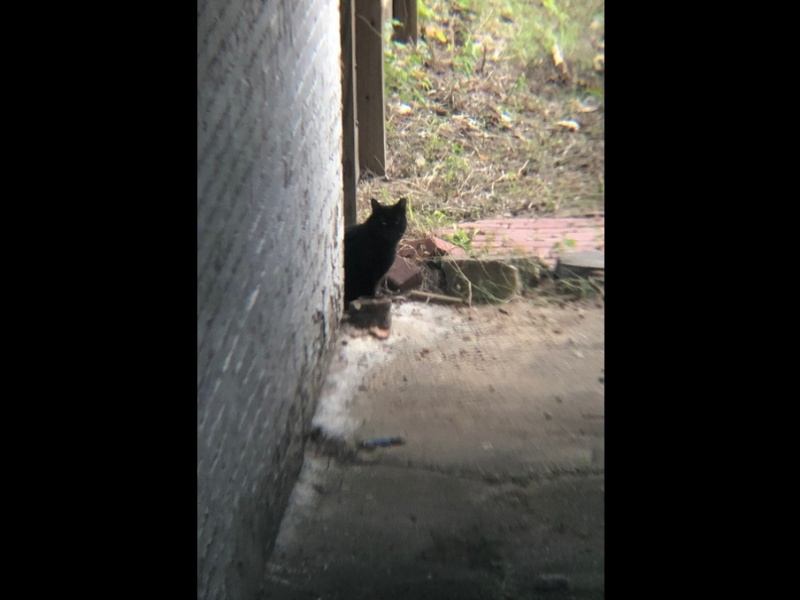cat: (343, 195, 410, 315)
